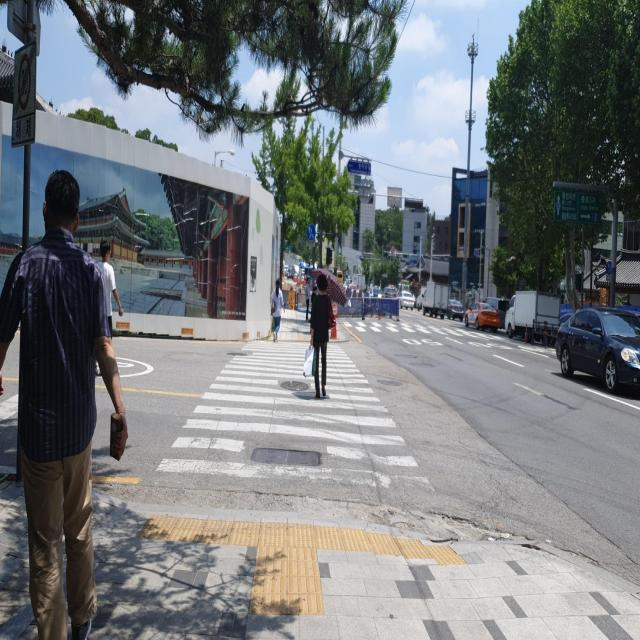횡단보도: (153, 334, 437, 496), (344, 316, 514, 353)
